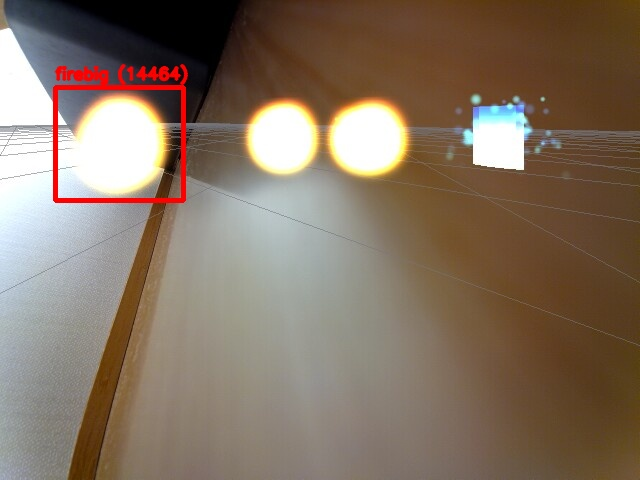firebig: (55, 87, 183, 200)
